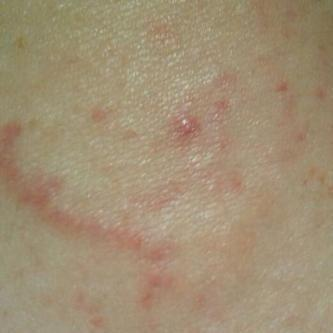Fleas: (0, 116, 184, 309), (167, 109, 206, 146)
